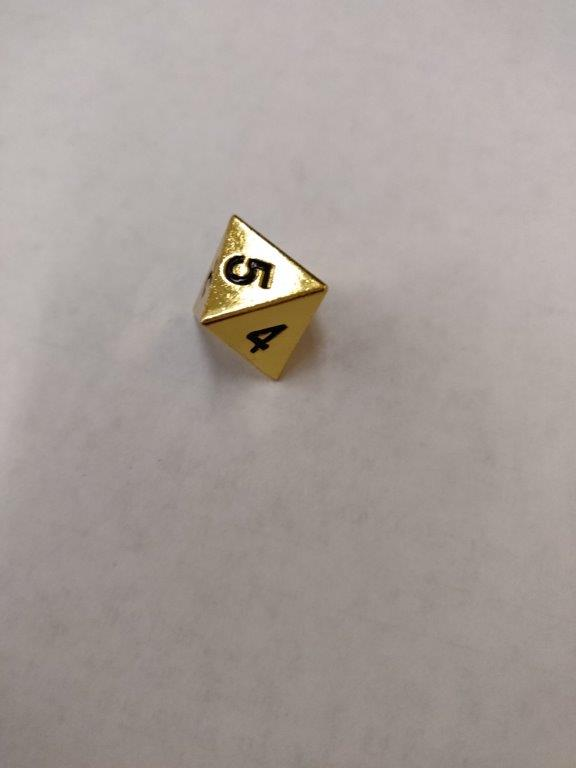d8-5: (192, 211, 331, 386)
